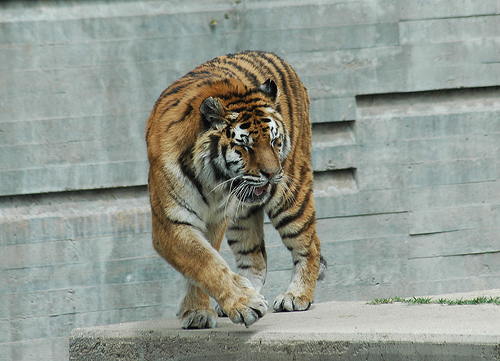Tigre: (128, 49, 348, 323)
